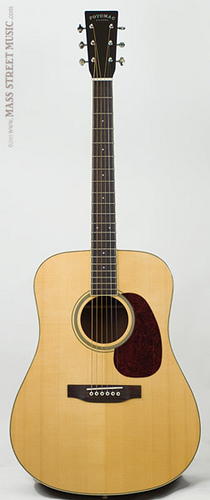guitar: (8, 5, 200, 498)
